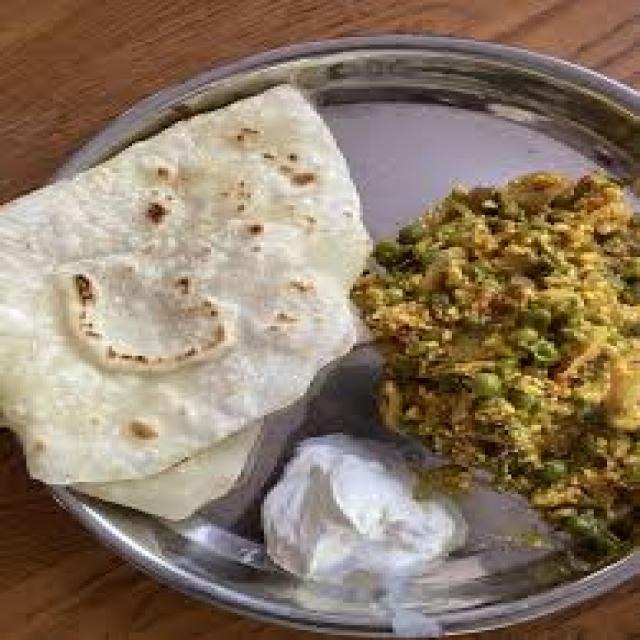RICE BHAKRI: (0, 84, 366, 514)
